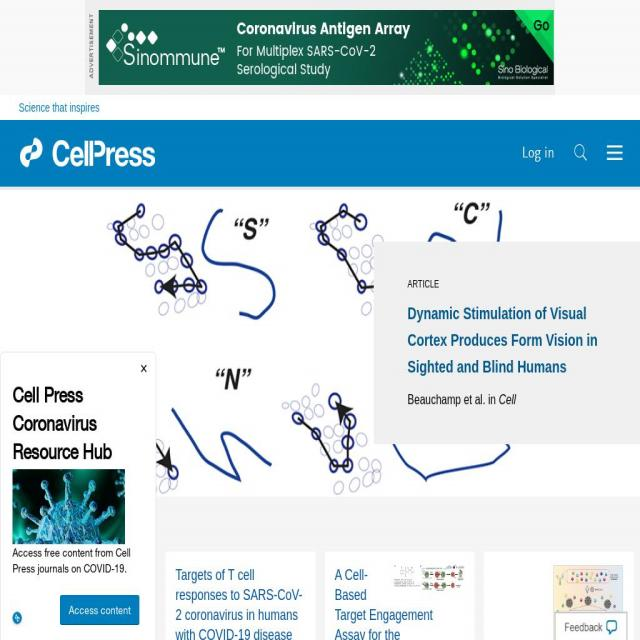login-option: (515, 132, 557, 173)
options: (600, 137, 632, 168)
search: (565, 134, 595, 174)
